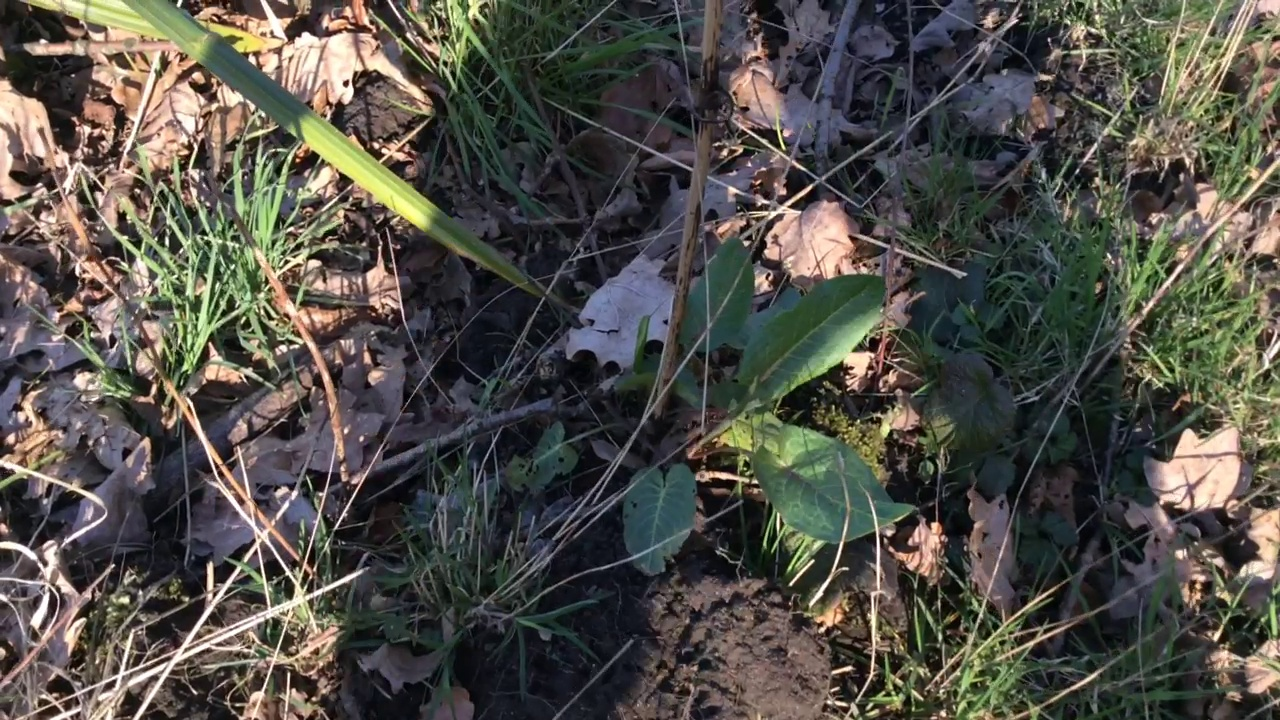rumex: (530, 240, 915, 577)
